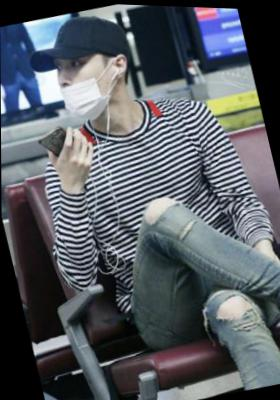WRONG: (51, 44, 115, 124)
